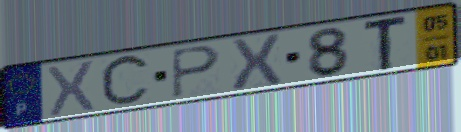8: (305, 26, 351, 79)
C: (98, 51, 154, 111)
P: (169, 44, 223, 101)
T: (362, 12, 411, 73)
X: (228, 32, 285, 94), (45, 58, 97, 119)
